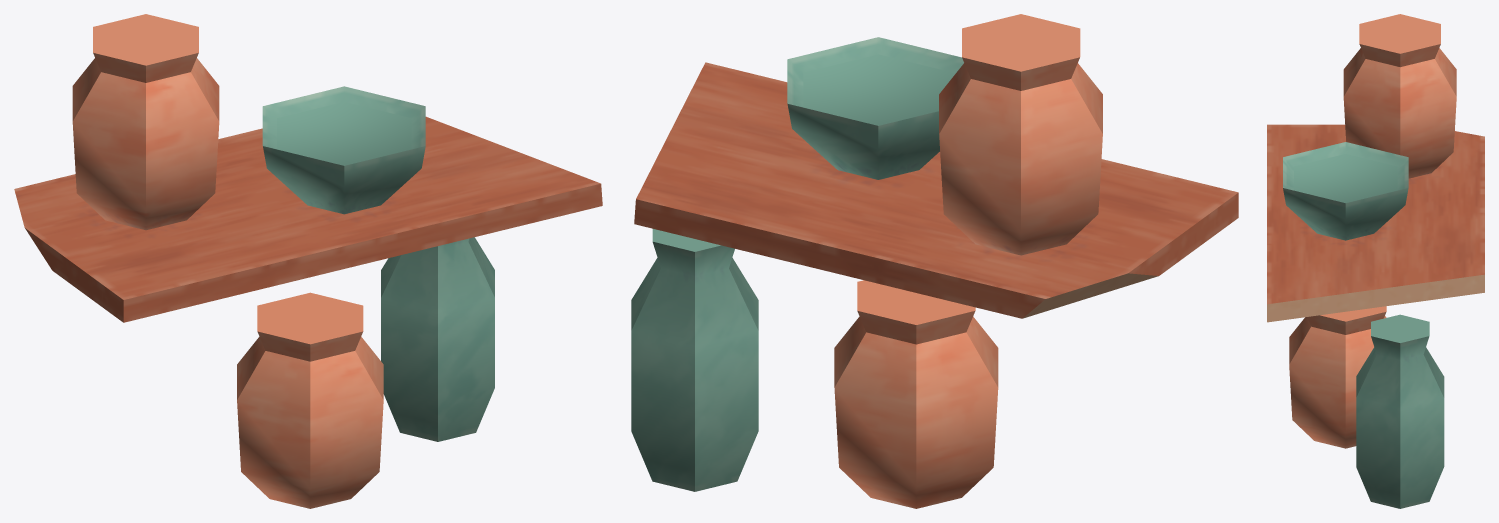
The model's file is pot_rack_s05.fbx.
3 views of the same model, side by side, from view 1: azimuth 30°, elevation 25°; view 2: azimuth 150°, elevation 25°; view 3: azimuth 270°, elevation 25° (orthographic). The views are drawn at different scales.
Visible parts, largest first — view 1: pot_rack_s05; view 2: pot_rack_s05; view 3: pot_rack_s05.
Part boxes in pixels (x1,y1,x2,y2): pot_rack_s05: (14, 14, 602, 508); pot_rack_s05: (631, 14, 1238, 508); pot_rack_s05: (1267, 14, 1484, 508).
Bounding box in the file's own units: 3.53 × 3.2 × 1.8.
